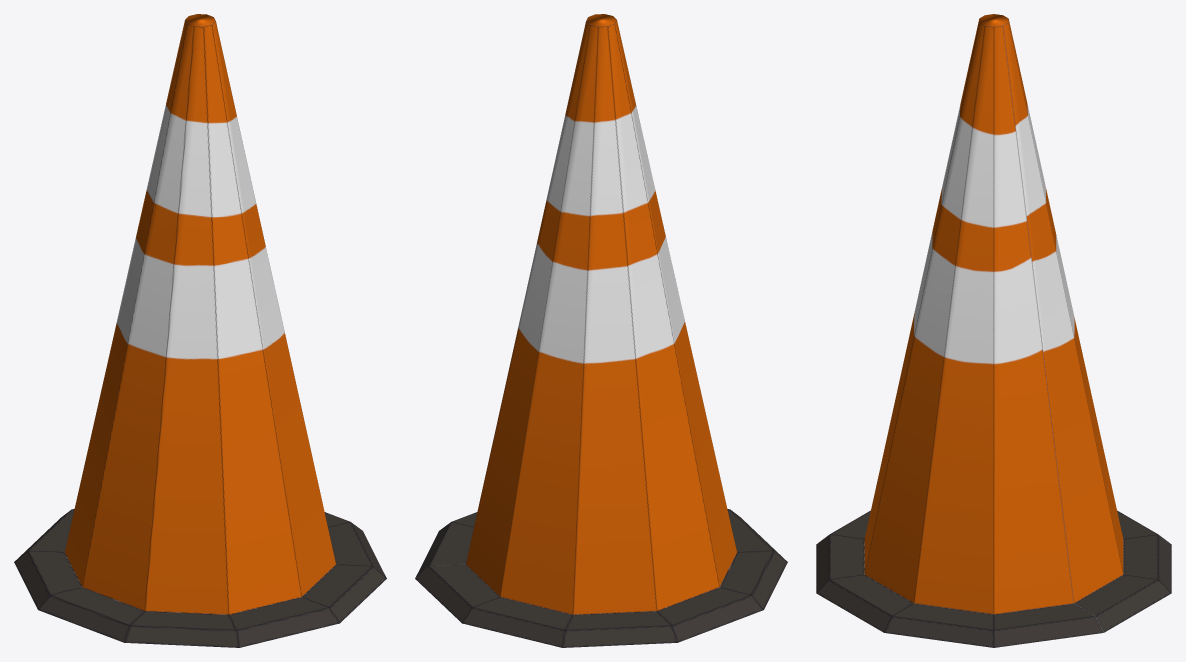
Rendered from RoadBlock_2.fbx.
The picture shows the model from 3 angles, left to right: view 1: azimuth 30°, elevation 25°; view 2: azimuth 150°, elevation 25°; view 3: azimuth 270°, elevation 25°; orthographic projection.
Visible parts, largest first — view 1: pCone1; view 2: pCone1; view 3: pCone1.
Part boxes in pixels (x1=…): pCone1: x1=14, y1=14, x2=386, y2=647; pCone1: x1=415, y1=14, x2=787, y2=647; pCone1: x1=816, y1=14, x2=1171, y2=647.
Size of the model in its own units: 127 by 205 by 120.
Materials: 1 (1 with a texture image).
